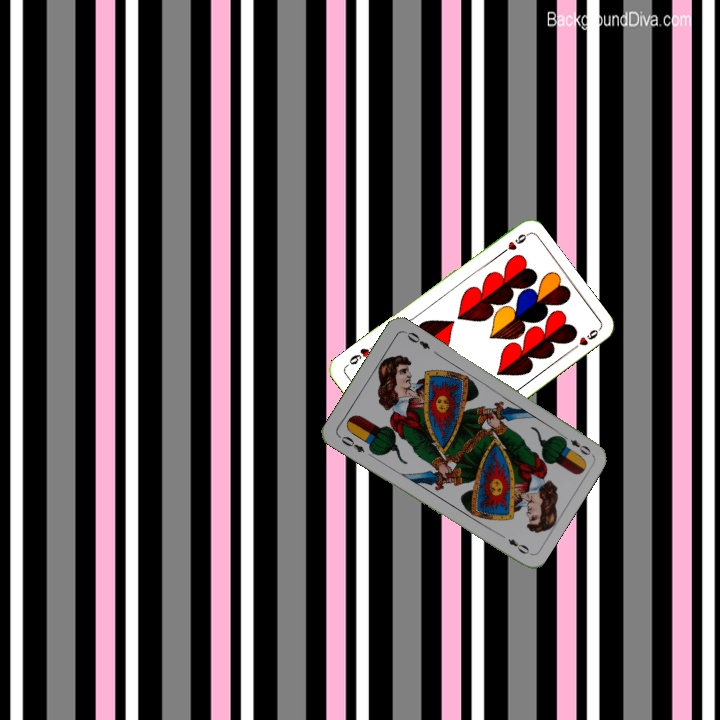EO: (557, 430, 594, 458), (334, 431, 367, 455)
H9: (494, 229, 530, 259)
